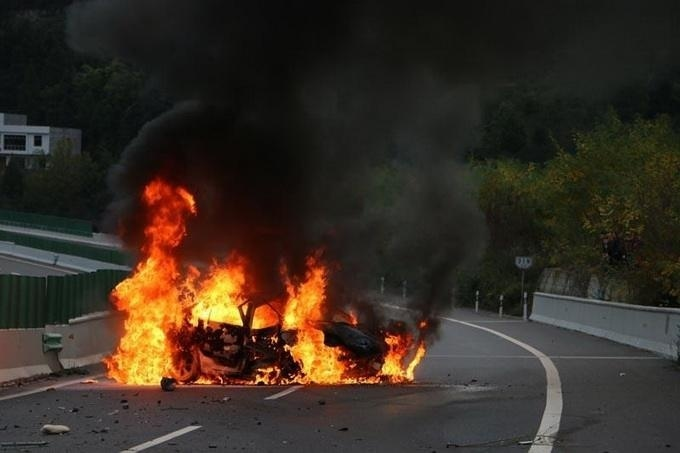fire: (99, 190, 434, 398)
